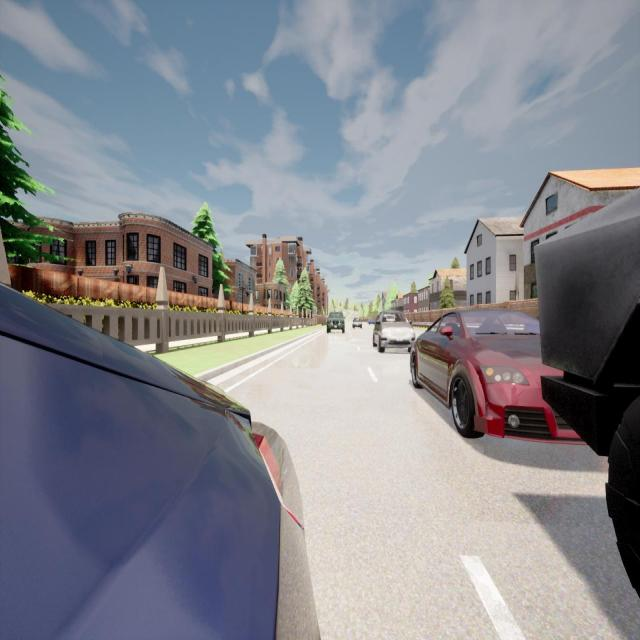Vehicle: (0, 280, 321, 640), (534, 188, 640, 598), (411, 308, 588, 446), (372, 310, 416, 352), (326, 310, 346, 334), (352, 316, 362, 329), (368, 317, 375, 325)
